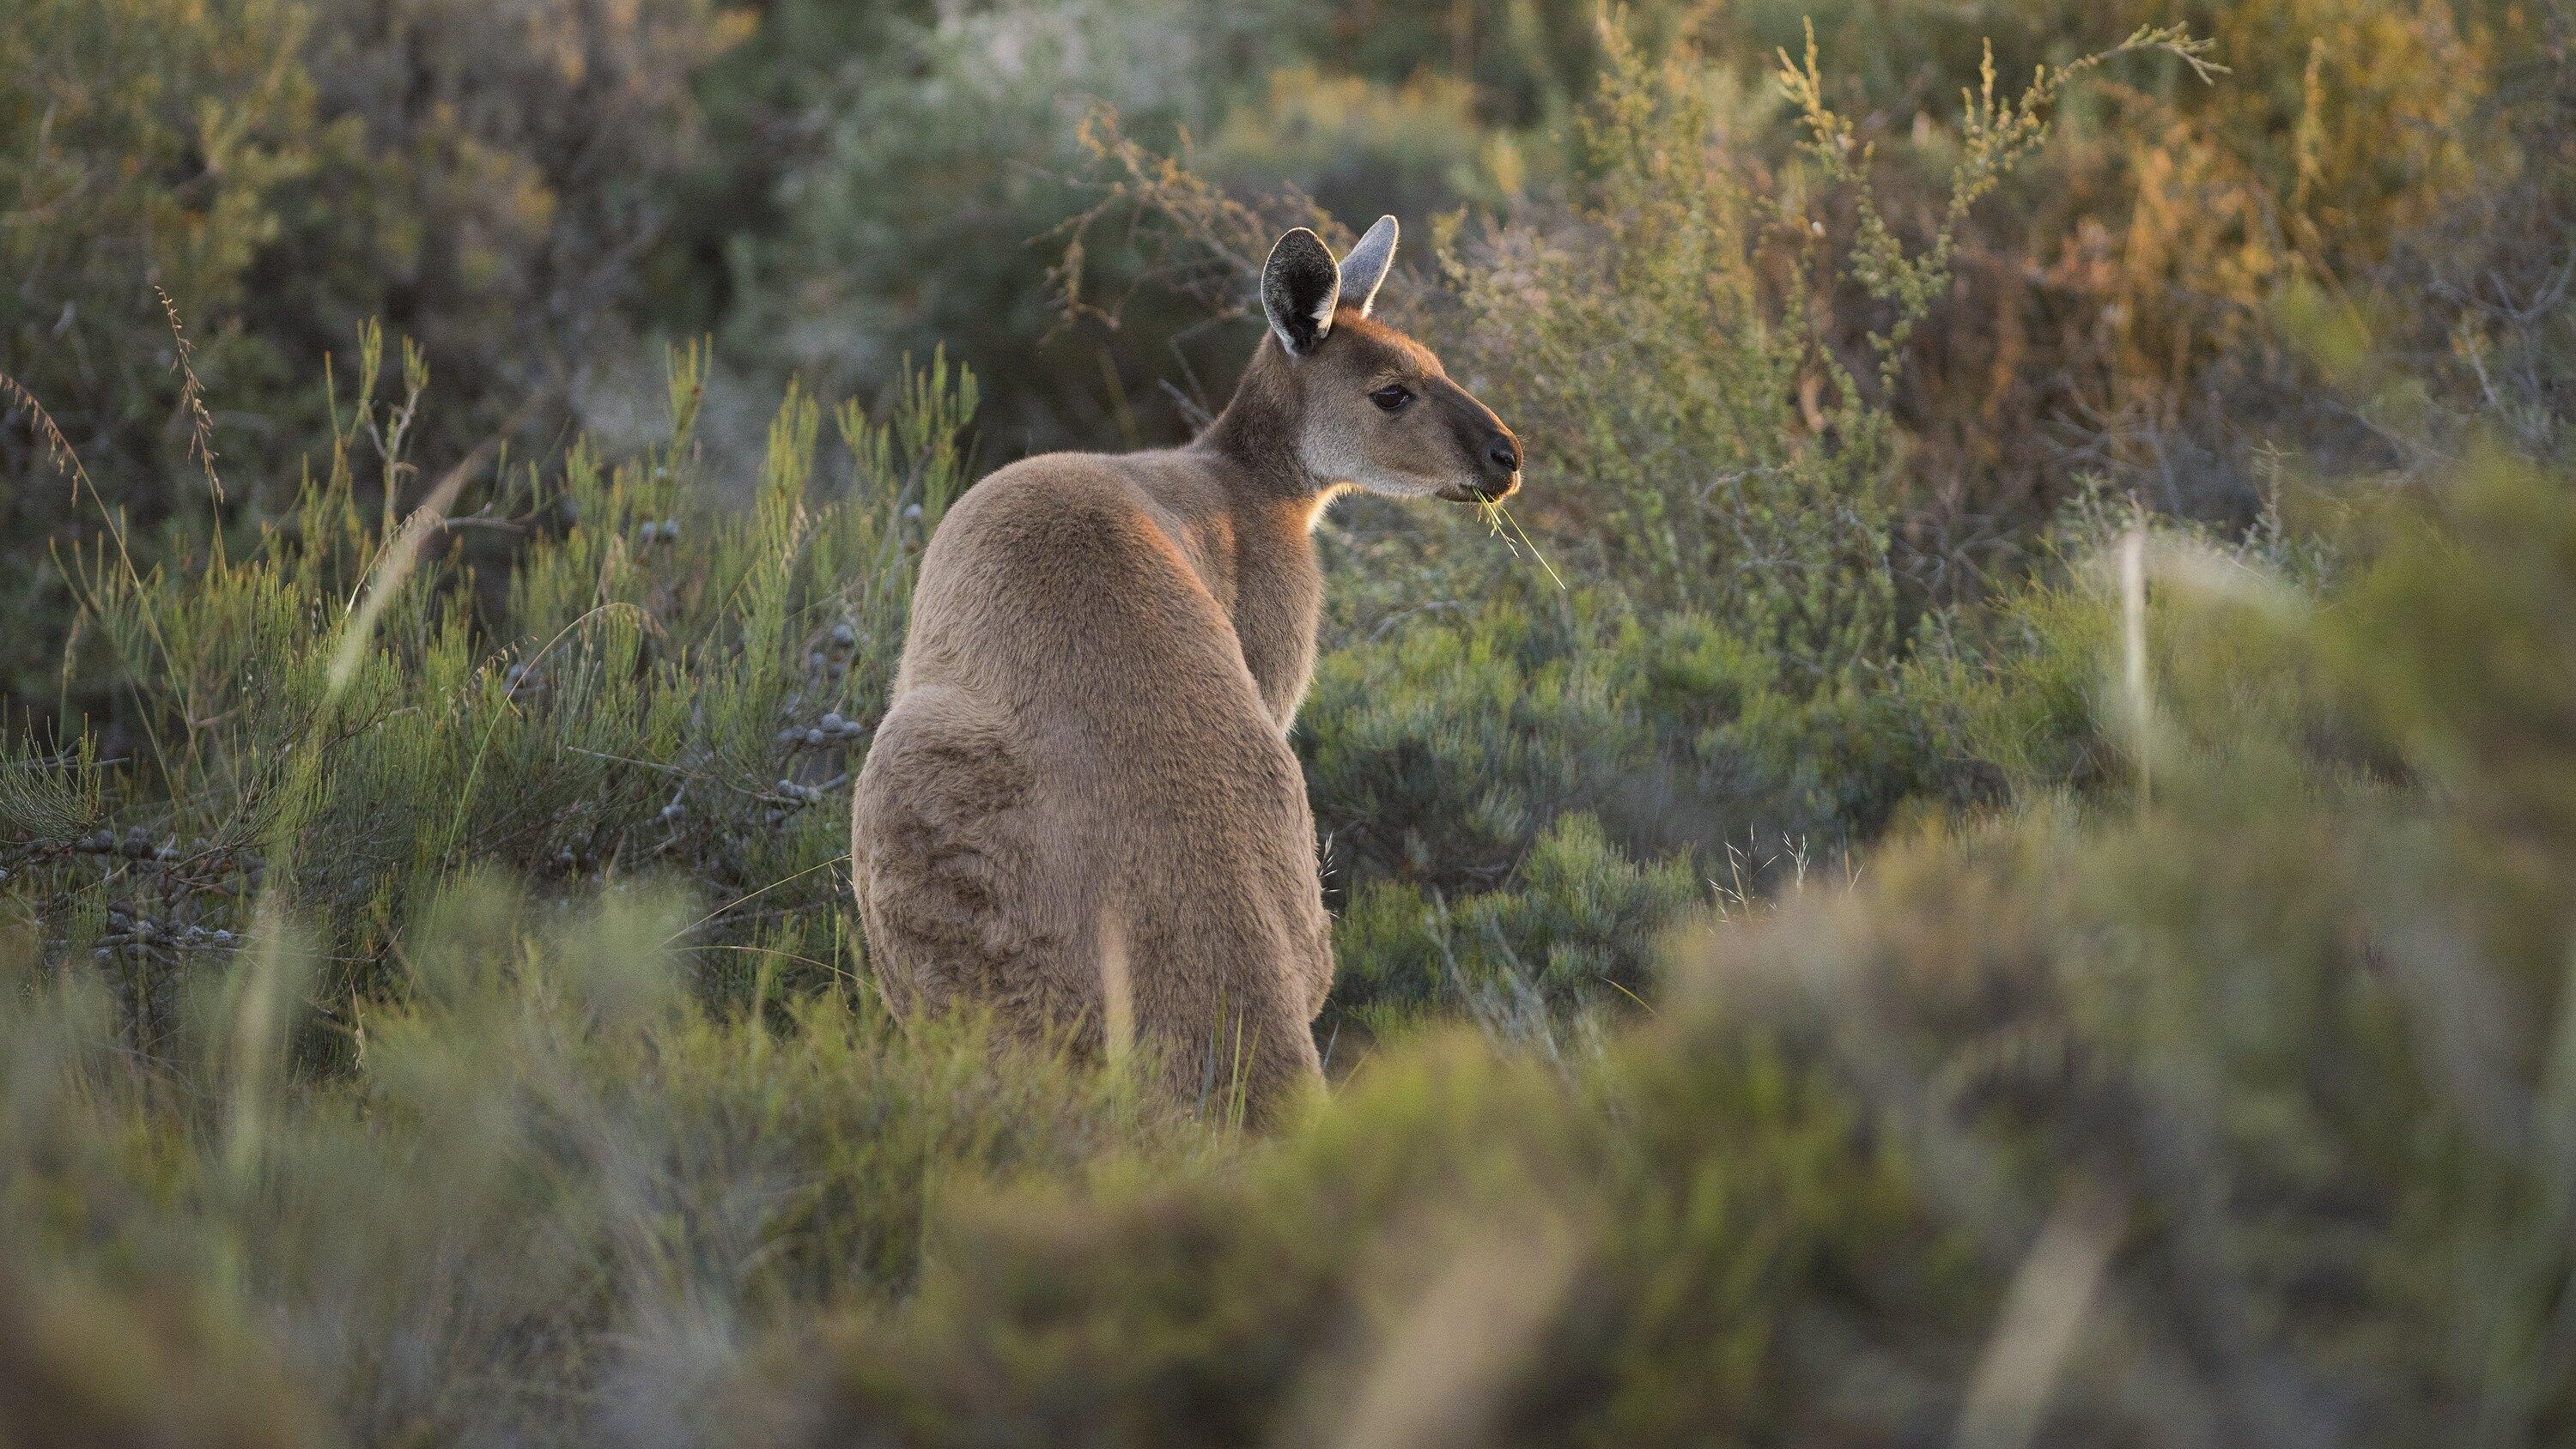Western grey kangaroo: (840, 235, 1532, 1168)
